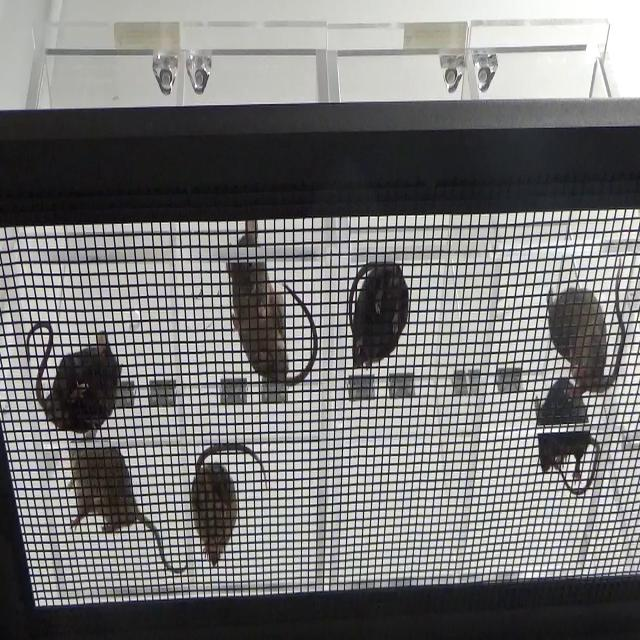lick claw: (540, 276, 626, 389)
